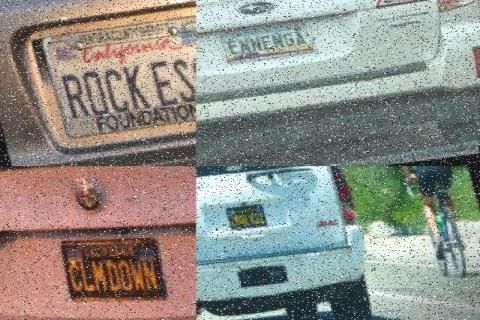LicensePlate: (36, 12, 196, 138), (52, 226, 176, 310), (217, 19, 317, 62), (226, 201, 272, 229)
